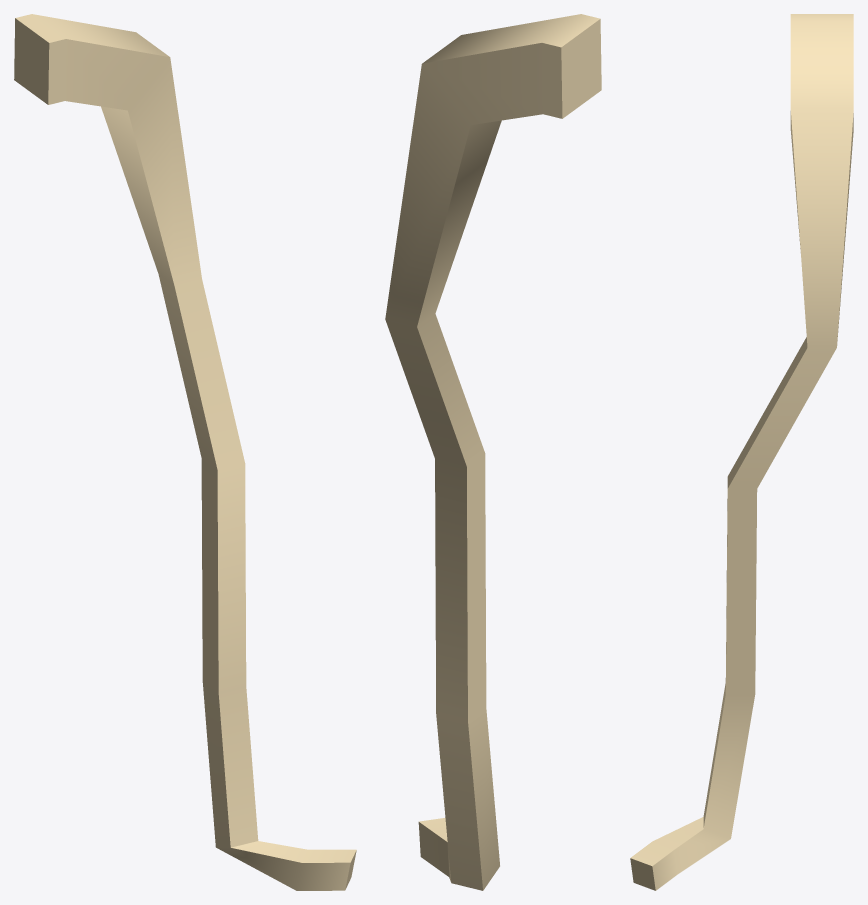
Rendered from Anatomy_Urethra_Right.obj.
3 views of the same model, side by side, from view 1: azimuth 30°, elevation 25°; view 2: azimuth 150°, elevation 25°; view 3: azimuth 270°, elevation 25° (orthographic). The views are drawn at different scales.
Parts seen in each view (by area): view 1: Urethra_Right; view 2: Urethra_Right; view 3: Urethra_Right.
Boxes of the visible parts, left/top/right/bottom form: Urethra_Right: left=14, top=14, right=356, bottom=890; Urethra_Right: left=385, top=14, right=601, bottom=890; Urethra_Right: left=630, top=14, right=853, bottom=890.
Size of the model in its own units: 5.45 by 18.66 by 4.89.
